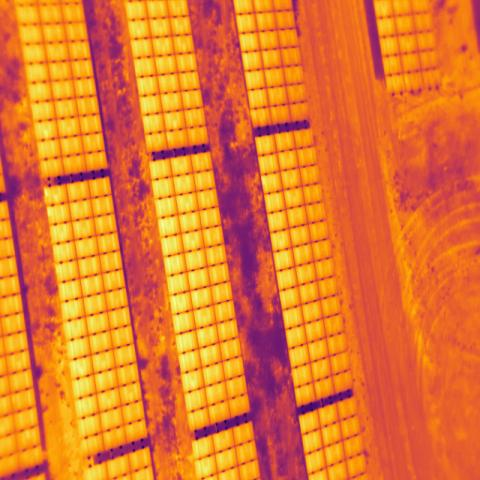fault: (35, 120, 58, 141)
